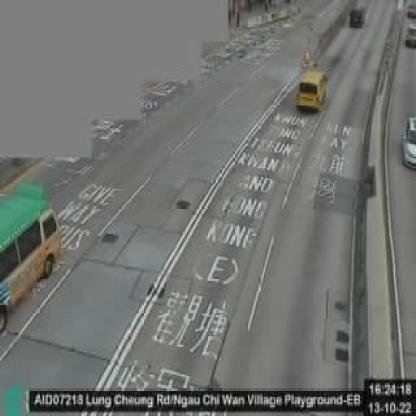Car: (402, 111, 416, 173), (350, 3, 367, 27), (406, 23, 416, 49), (406, 2, 416, 18)
Minibus: (2, 180, 63, 324)
Truck: (298, 65, 330, 111)
